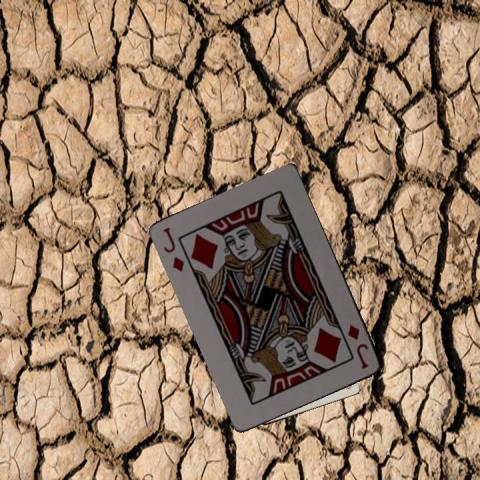Jd: (160, 224, 187, 274), (344, 321, 370, 371)
